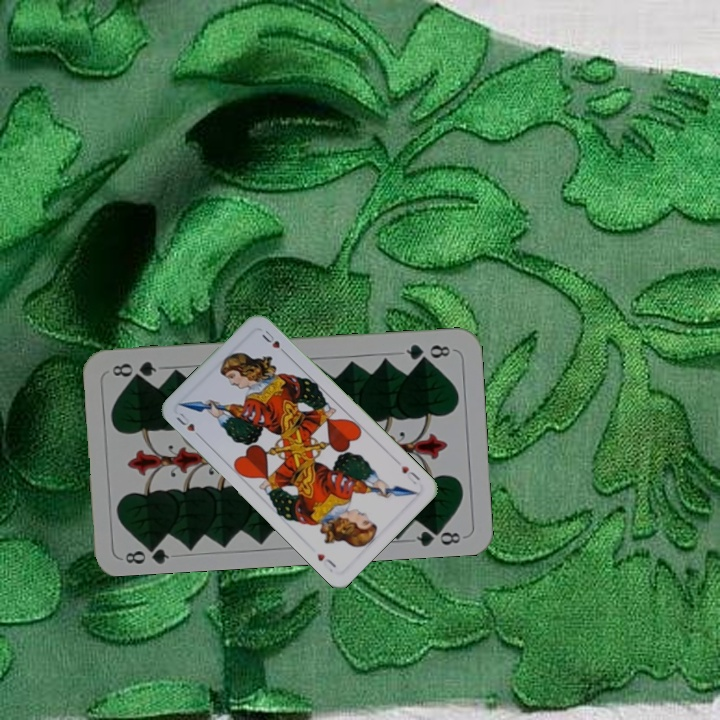G8: (121, 538, 172, 567), (402, 340, 453, 364)
HU: (172, 409, 205, 442), (397, 461, 423, 487)
